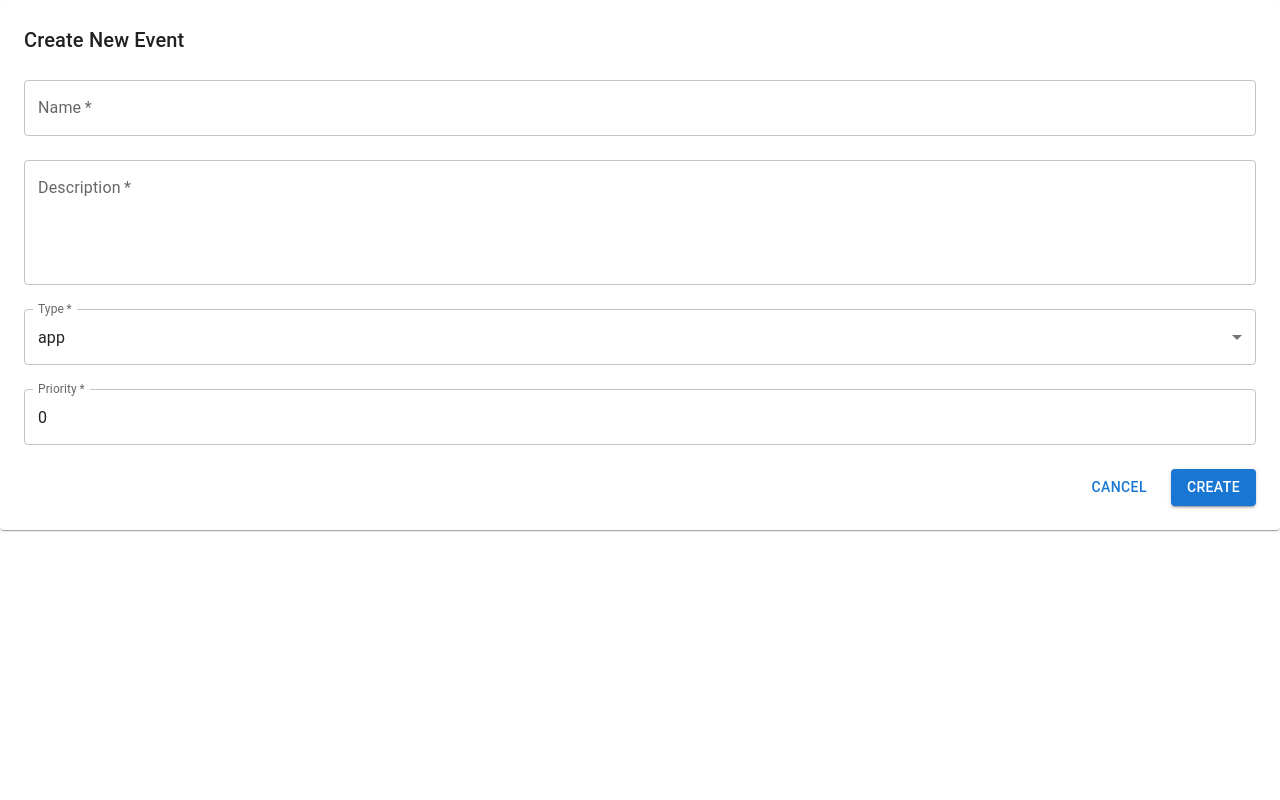
EventForm › API Error Handling › should handle server validation errors
Step 1. Type "Test" into the field labelled "Name *" → [640, 108], box [24,80,1256,136]
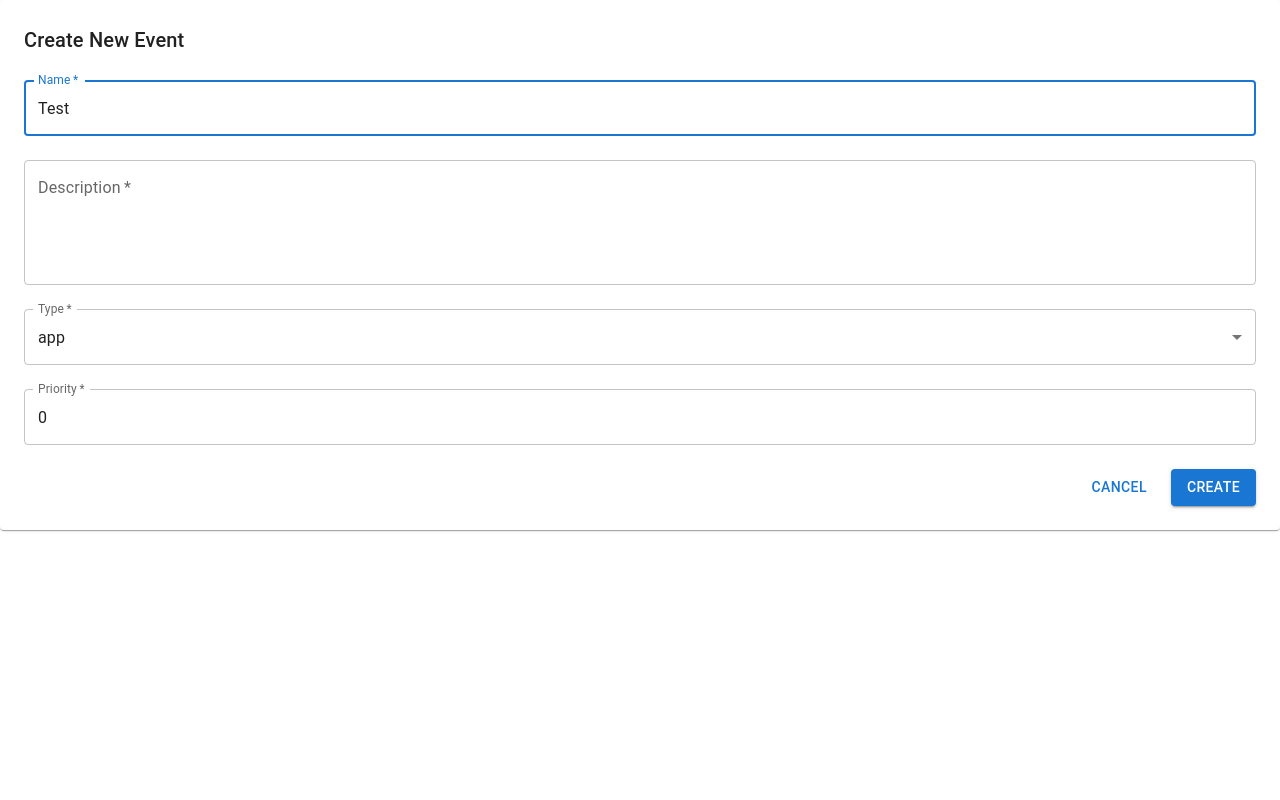
Step 2. Type "Test" into the text box labelled "Description *" → [640, 222], box [38,176,1242,268]
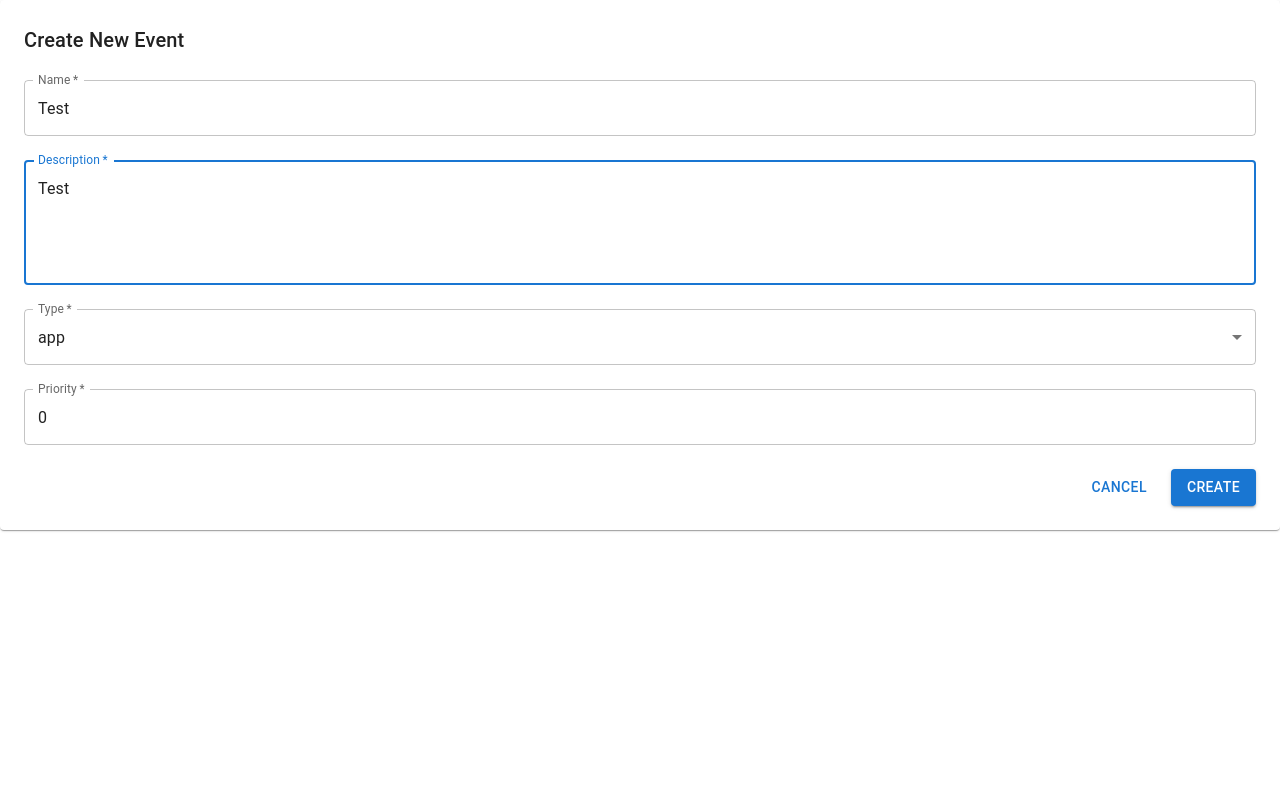
Step 3. Click the button "Create" → [1213, 487], box [1171,469,1256,506]
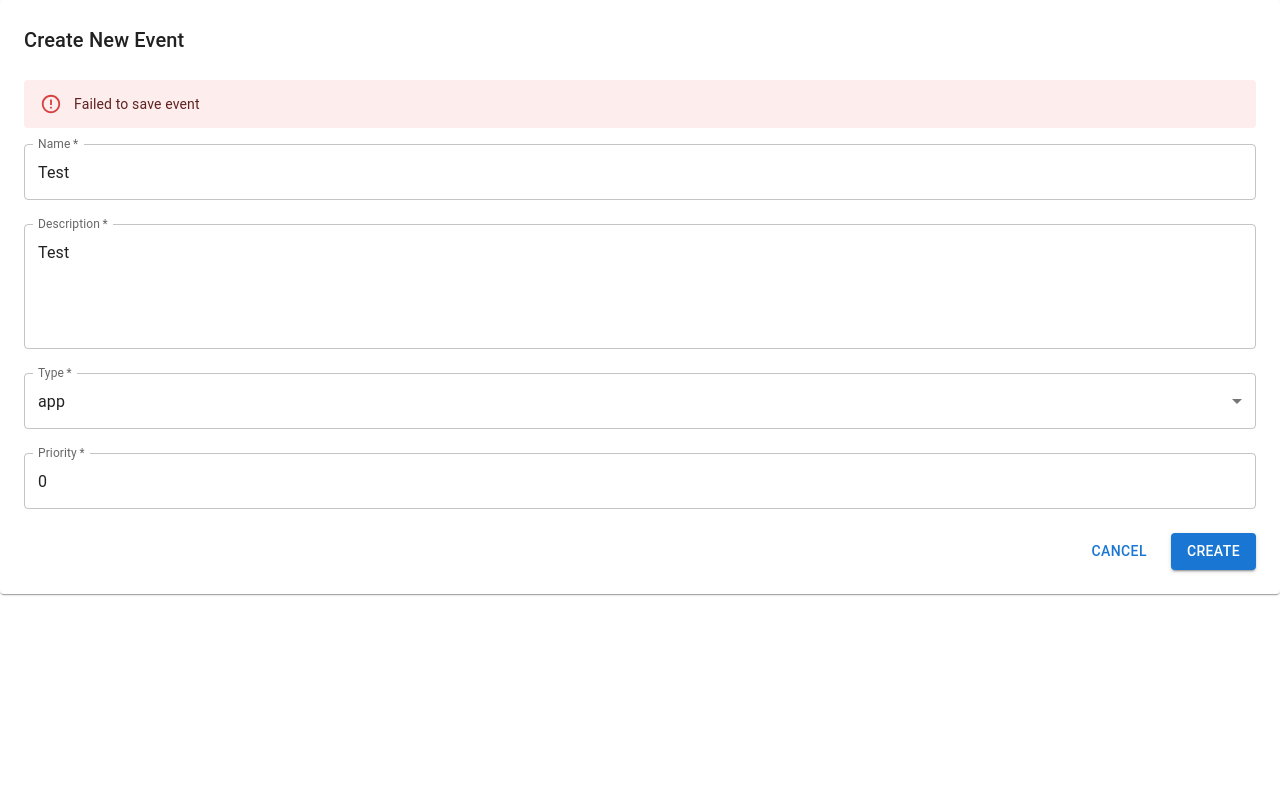
Now the text "Failed to save event" is shown, box [74,96,200,112]
